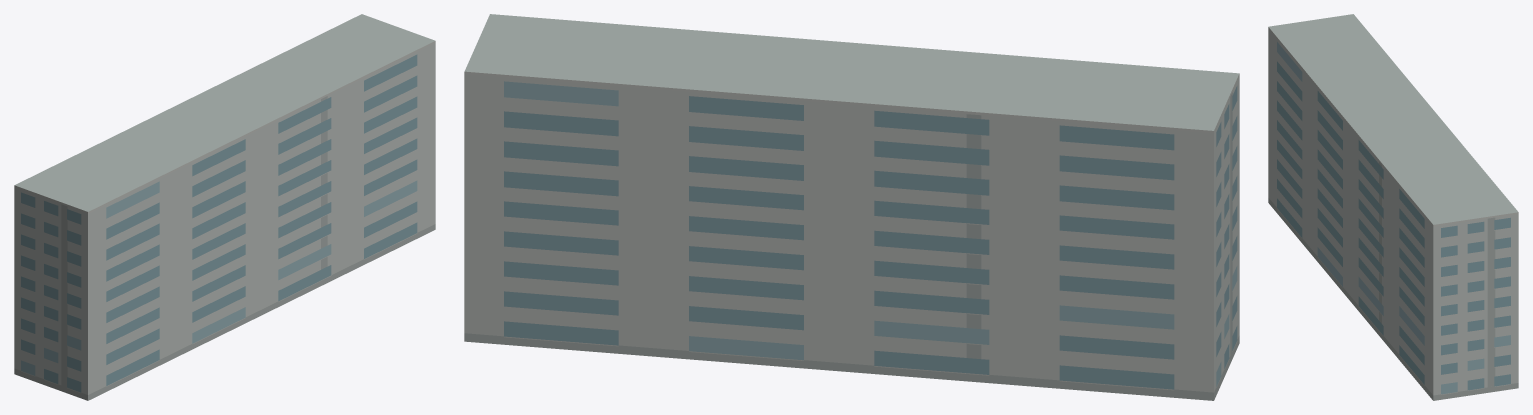
File: residential-c332338f-3020-4018-b17a-e27d77fec4b9.glb
3 renders of one model, left to right at view 1: azimuth 30°, elevation 25°; view 2: azimuth 150°, elevation 25°; view 3: azimuth 270°, elevation 25°, orthographic. The views are drawn at different scales.
Parts seen in each view (by area): view 1: residential-c332338f-3020-4018-b17a-e27d77fec4b9.tmp; view 2: residential-c332338f-3020-4018-b17a-e27d77fec4b9.tmp; view 3: residential-c332338f-3020-4018-b17a-e27d77fec4b9.tmp.
Part boxes in pixels (box(x1,y1,x2,y2)): residential-c332338f-3020-4018-b17a-e27d77fec4b9.tmp: box(14, 14, 435, 400); residential-c332338f-3020-4018-b17a-e27d77fec4b9.tmp: box(464, 14, 1239, 400); residential-c332338f-3020-4018-b17a-e27d77fec4b9.tmp: box(1268, 14, 1518, 400).
Size of the model in its own units: 61.67 by 24 by 30.95.
